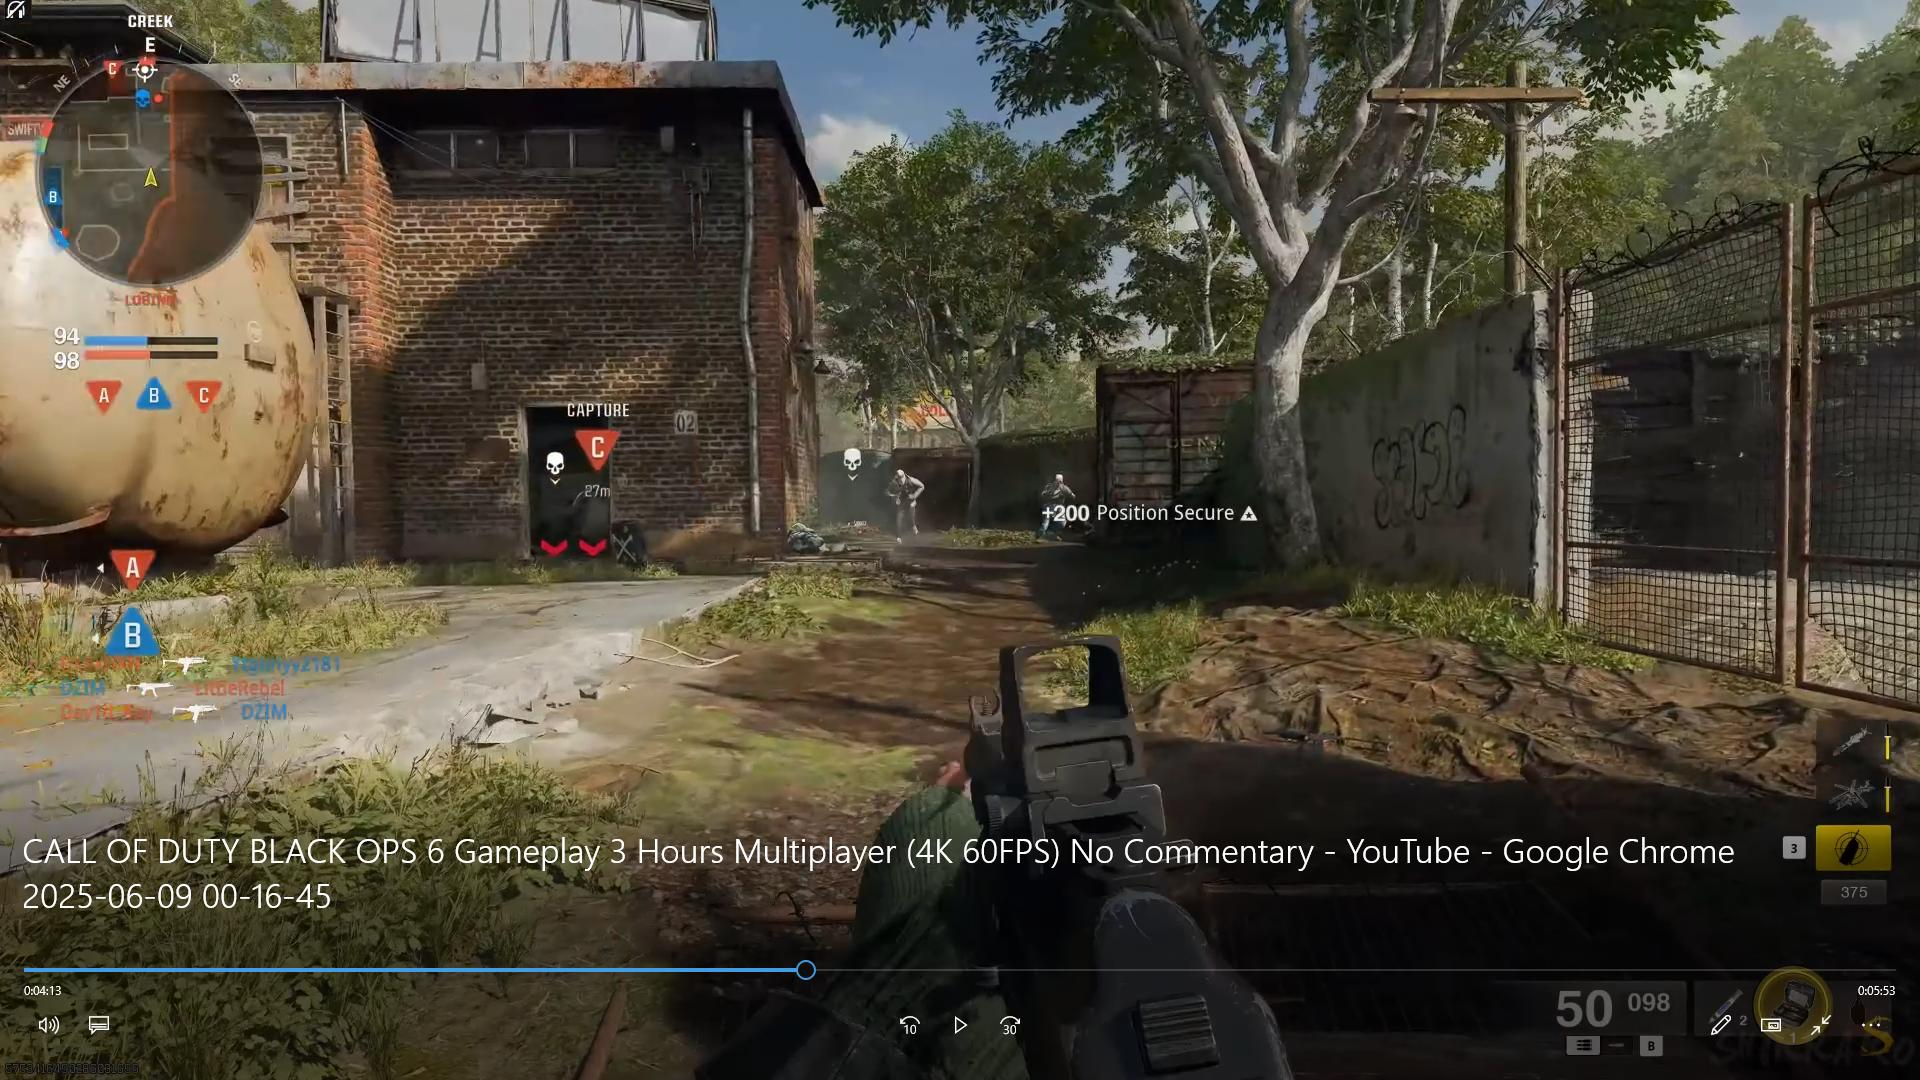Enemy: (878, 460, 927, 545), (1040, 468, 1077, 504)
